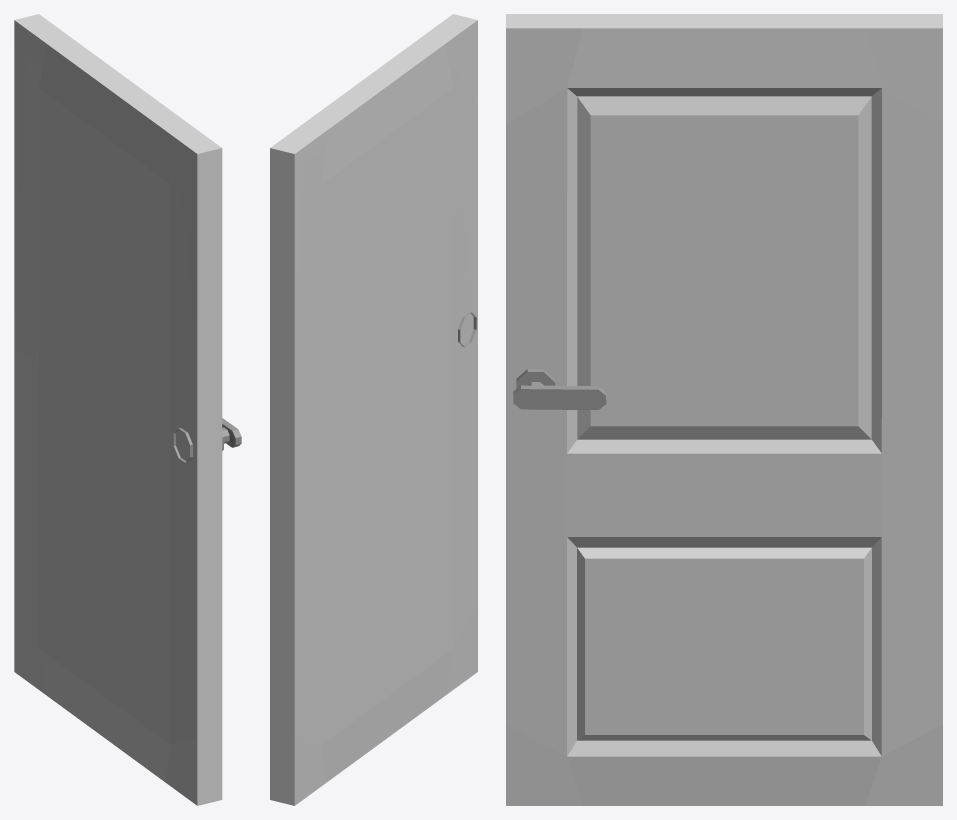
Rendered from low-poly-room-door.fbx.
3 views of the same model, side by side, from view 1: azimuth 30°, elevation 25°; view 2: azimuth 150°, elevation 25°; view 3: azimuth 270°, elevation 25° (orthographic). The views are drawn at different scales.
Parts seen in each view (by area): view 1: door; view 2: door; view 3: door.
Boxes of the visible parts, <box> form: door: <box>14,14,241,805</box>; door: <box>270,14,477,805</box>; door: <box>506,14,942,805</box>.
Size of the model in its own units: 15.1 by 187 by 95.3.
